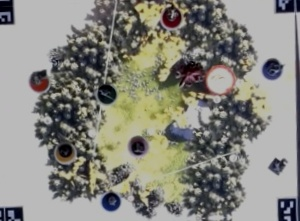blue: (99, 188, 123, 212)
green: (94, 80, 118, 106)
orange: (26, 69, 52, 94)
pink: (125, 131, 152, 157)
red: (157, 4, 184, 30)
violet: (259, 55, 285, 81)
yellow: (51, 138, 79, 166)
